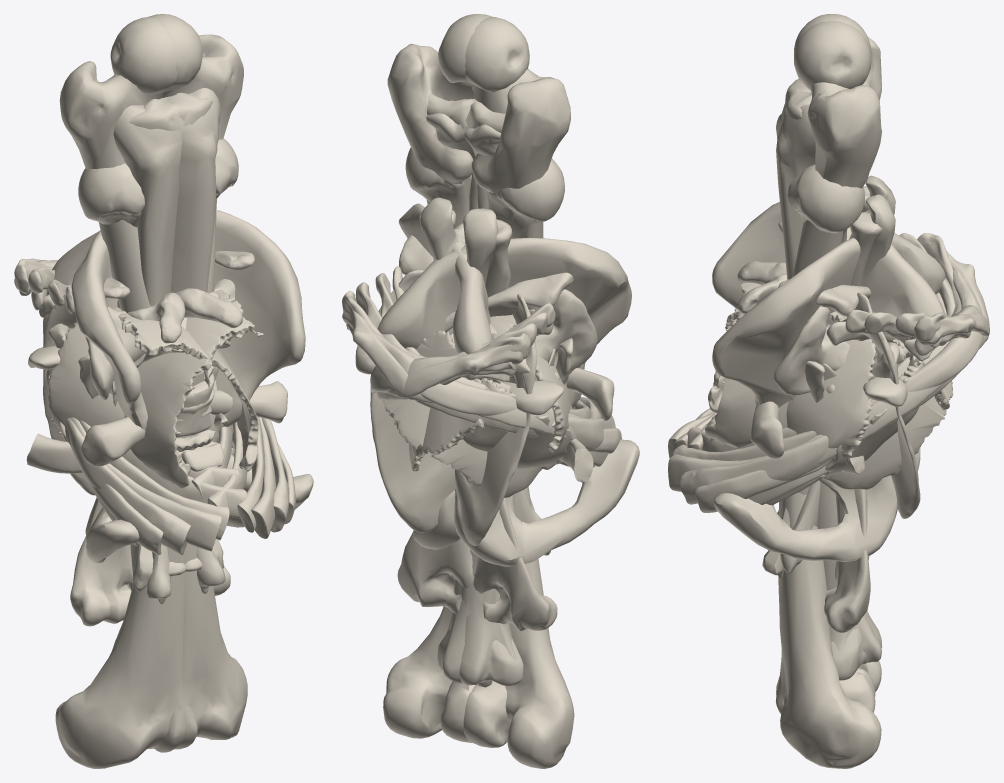
File: skeleton.glb
3 views of the same model, side by side, from view 1: azimuth 30°, elevation 25°; view 2: azimuth 150°, elevation 25°; view 3: azimuth 270°, elevation 25° (orthographic). The views are drawn at different scales.
Visible parts, largest first — view 1: left_femur, right_femur, left_hip_bone, right_tibia, left_tibia, right_parietal_bone, right_hip_bone, right_humerus, frontal_bone, left_scapula, left_humerus, left_parietal_bone (+23 smaller); view 2: left_femur, right_femur, right_hip_bone, left_hip_bone, right_scapula, left_humerus, right_humerus, left_scapula, right_tibia, left_tibia, right_parietal_bone, right_sixth_rib (+19 smaller); view 3: right_femur, right_hip_bone, left_hip_bone, left_femur, left_parietal_bone, left_tibia, frontal_bone, left_seventh_rib, left_fifth_rib, right_scapula, right_humerus, left_humerus (+22 smaller).
Boxes of the visible parts, x1,y1,x2,y2 form: left_femur: (55,16,243,768); right_femur: (59,14,247,752); left_hip_bone: (46,210,305,563); right_tibia: (113,92,213,637); left_tibia: (112,88,220,650); right_parietal_bone: (124,290,263,488); right_hip_bone: (71,231,313,527); right_humerus: (70,138,238,626); frontal_bone: (48,322,233,442); left_scapula: (43,251,254,495); left_humerus: (78,163,230,595); left_parietal_bone: (114,307,258,471); left_femur: (387,17,574,768); right_femur: (383,14,570,747); right_hip_bone: (377,237,631,549); left_hip_bone: (398,203,639,566); right_scapula: (370,270,573,532); left_humerus: (397,158,564,613); right_humerus: (405,147,557,630); left_scapula: (399,235,536,545); right_tibia: (426,100,516,685); left_tibia: (427,94,523,686); right_parietal_bone: (382,334,585,497); right_sixth_rib: (342,301,601,440); right_femur: (776,21,881,768); right_hip_bone: (712,202,944,561); left_hip_bone: (712,233,945,407); left_femur: (775,14,881,714); left_parietal_bone: (704,262,953,489); left_tibia: (776,79,881,662); frontal_bone: (786,312,877,479); left_seventh_rib: (680,233,959,504); left_fifth_rib: (672,269,983,460); right_scapula: (737,221,920,518); right_humerus: (787,164,869,559); left_humerus: (824,489,870,632).
Bounding box in the file's own units: 5623452 × 1.64e+07 × 6695053.
